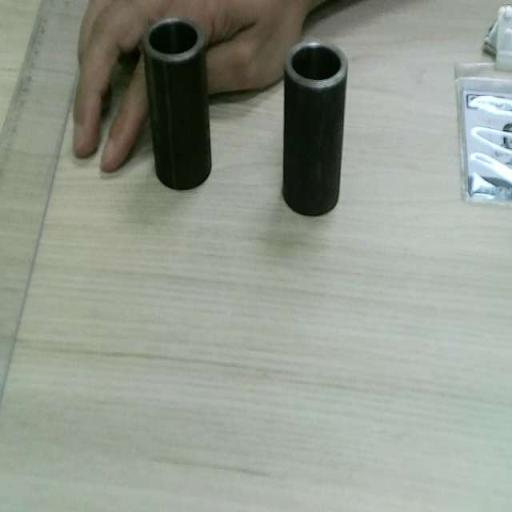peca: (142, 17, 210, 188), (283, 41, 347, 214)
